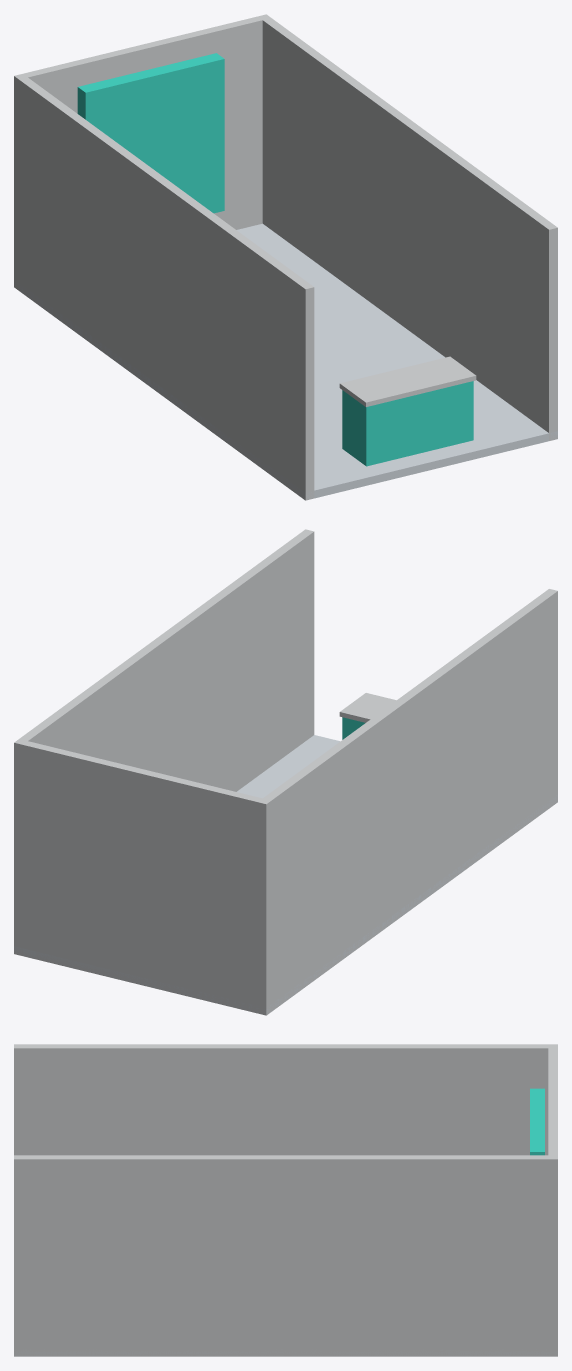
The picture shows the model from 3 angles, top to bottom: view 1: azimuth 30°, elevation 25°; view 2: azimuth 150°, elevation 25°; view 3: azimuth 270°, elevation 25°; orthographic projection. The views are drawn at different scales.
Visible parts, largest first — view 1: Exhibition Booth Concept; view 2: Exhibition Booth Concept; view 3: Exhibition Booth Concept.
Part boxes in pixels (box(x1,y1,x2,y2)): Exhibition Booth Concept: box(14, 14, 557, 500); Exhibition Booth Concept: box(14, 529, 557, 1015); Exhibition Booth Concept: box(14, 1044, 557, 1356).
Bounding box in the file's own units: 4 × 3.2 × 8.
